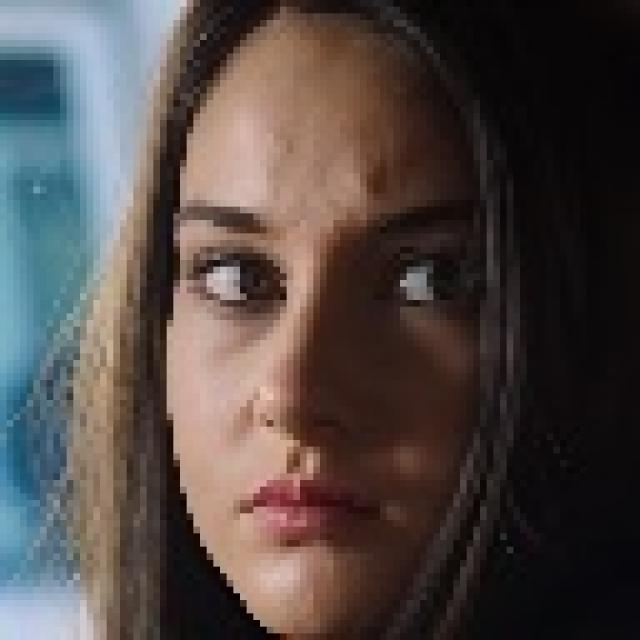sad: (103, 0, 541, 640)
